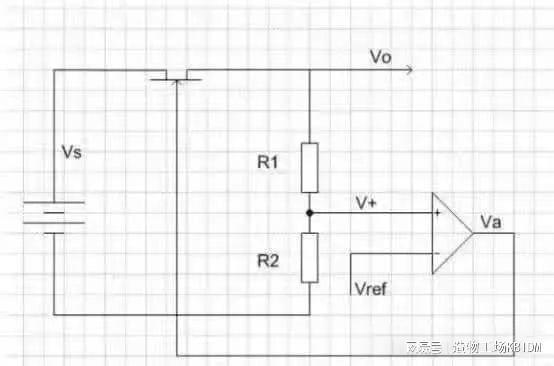amplifier: (425, 188, 476, 282)
mos: (143, 60, 212, 92)
power2: (20, 192, 89, 241)
res1: (298, 227, 322, 287), (298, 138, 322, 196)
